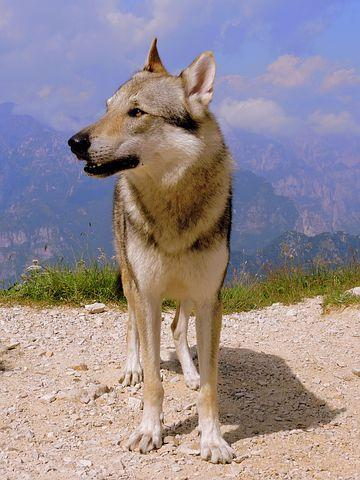Wolf: (65, 33, 259, 463)
